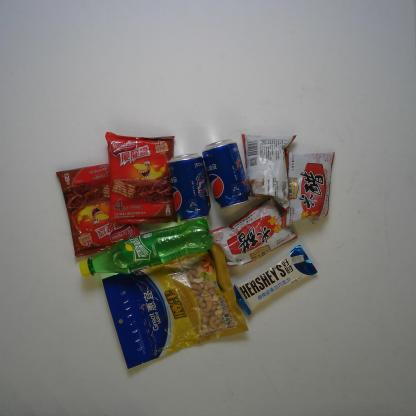Chocolate: (233, 244, 318, 316)
Dessert: (54, 163, 141, 259), (104, 131, 178, 227)
Dried Fruit: (101, 242, 250, 370)
Drink: (77, 217, 214, 279), (201, 138, 251, 209), (167, 152, 212, 221)
Seasoner: (207, 198, 299, 268), (280, 149, 336, 229), (241, 133, 297, 211)
